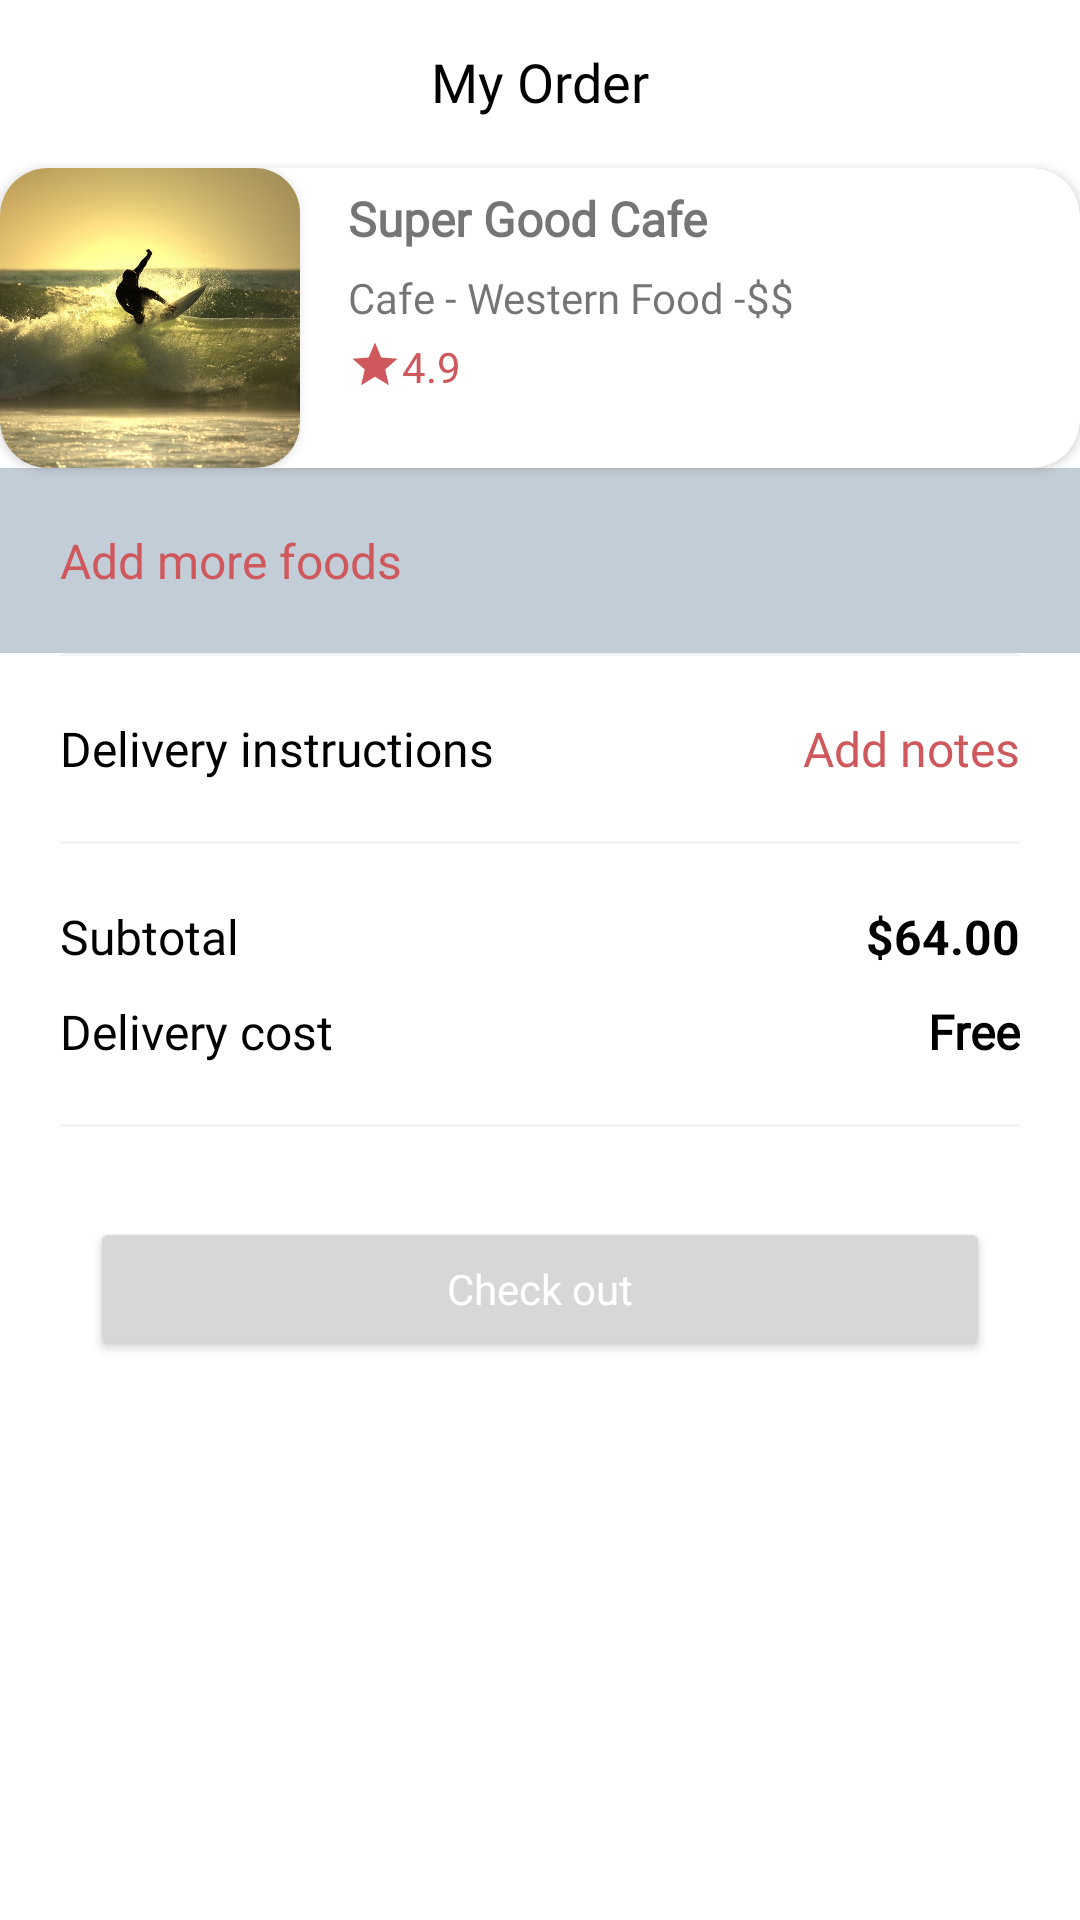

Named icons in this screenshot (1080px x 1920px) and their bounding boxes, (x1, y1, x2, y2):
star: (353, 343, 397, 385)
